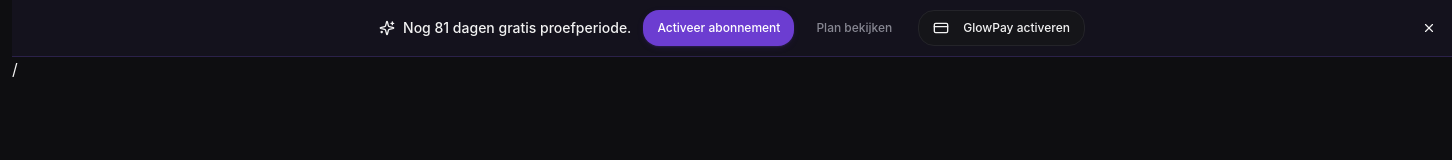
Test case: TrialBanner GlowPay navigation eligibility › navigates only to the existing integration registration page
Click the button "GlowPay activeren". click: [1002, 28]
box: [918,10,1085,46]
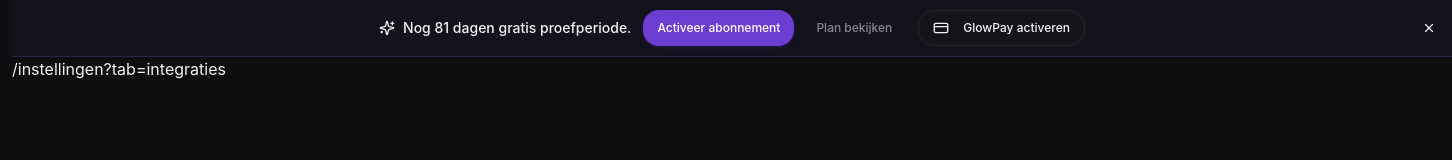
Check: the text "/instellingen?tab=integraties" is shown, box [12,59,226,79]
